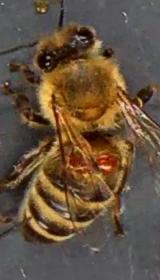varroa_mite: (92, 146, 120, 181)
